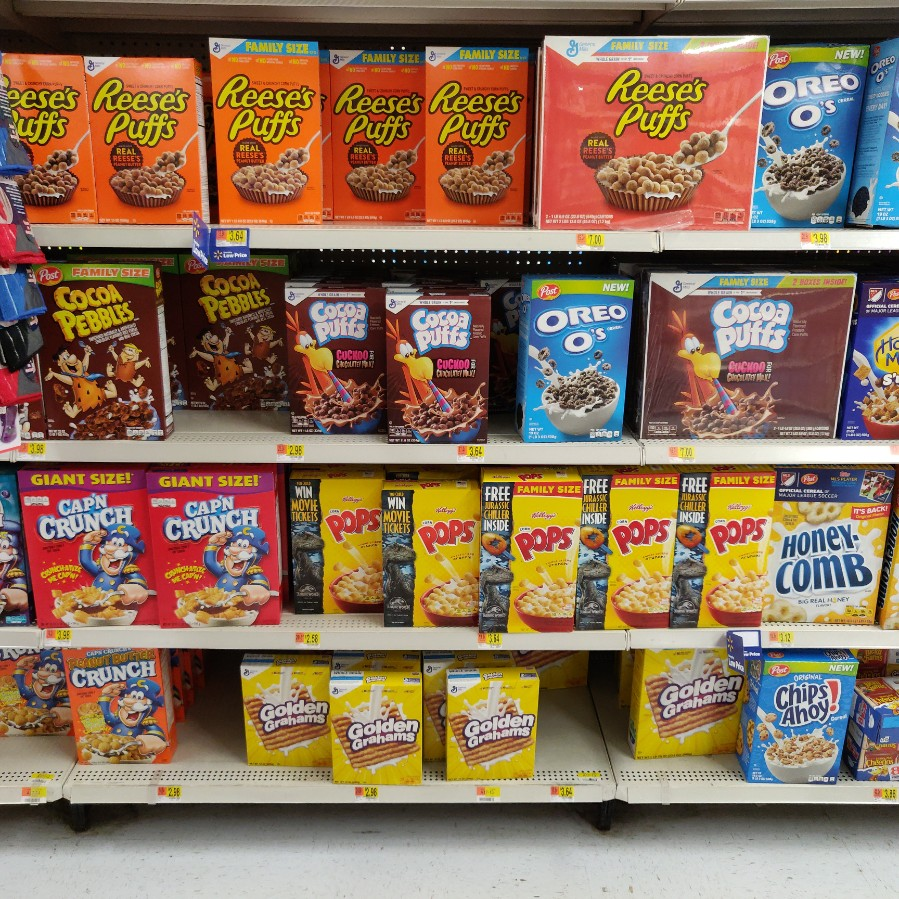Chips Ahoys-565717529: (755, 654, 846, 778)
Honey Comb- 009288857: (774, 464, 885, 622)
Oreo-563424384: (753, 44, 866, 226), (514, 273, 633, 444)
